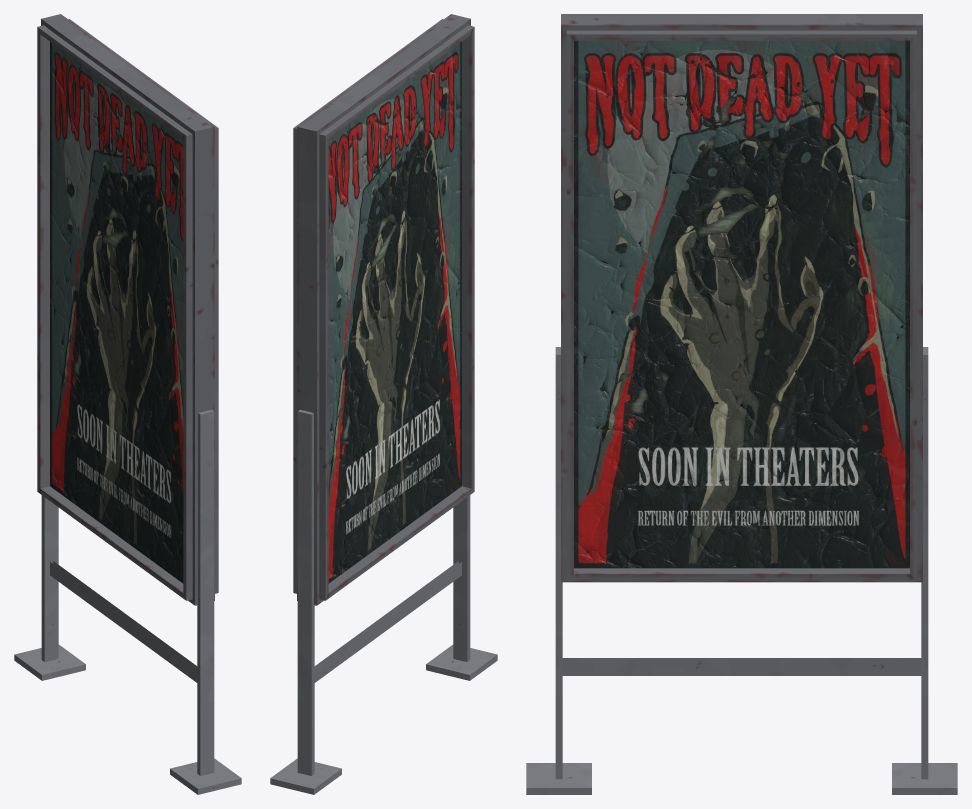
File: Billboard4_LOD1.fbx
3 renders of one model, left to right at view 1: azimuth 30°, elevation 25°; view 2: azimuth 150°, elevation 25°; view 3: azimuth 270°, elevation 25°, orthographic. The views are drawn at different scales.
Parts seen in each view (by area): view 1: polySurface1317; view 2: polySurface1317; view 3: polySurface1317.
Boxes of the visible parts, box(x1,y1,x2,y2) form: polySurface1317: box(14, 14, 241, 794); polySurface1317: box(270, 14, 497, 794); polySurface1317: box(526, 14, 957, 794).
Size of the model in its own units: 14.31 by 202 by 104.
